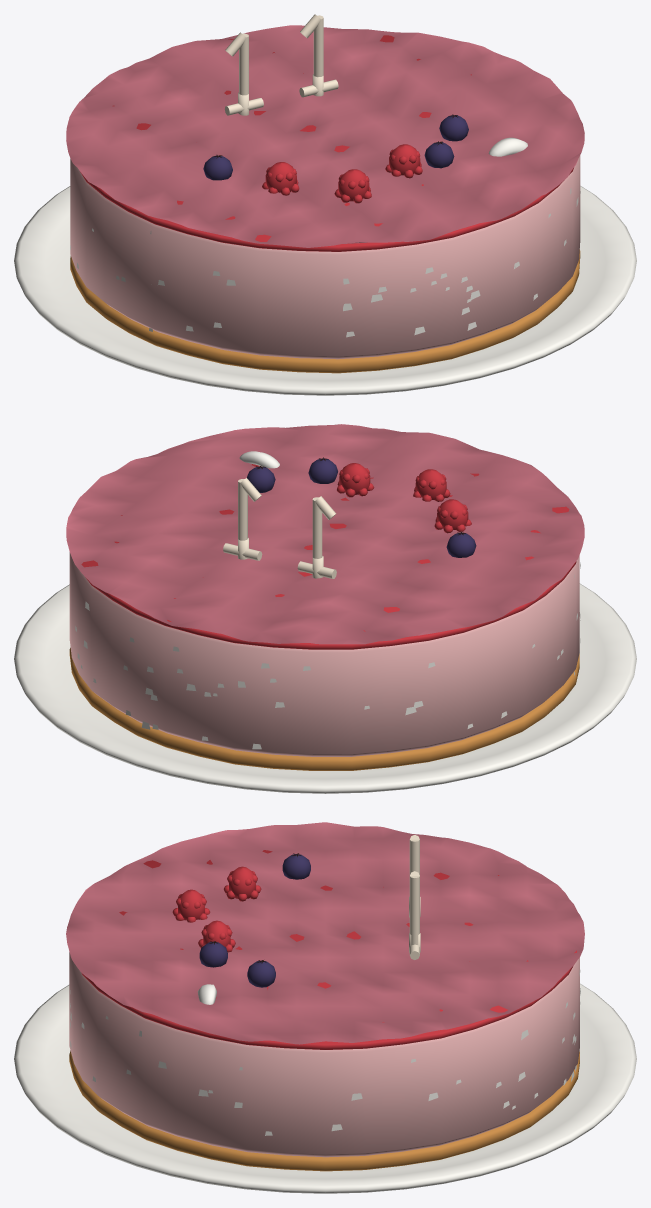
The model's file is cake-11.b8dd085b2adb-CWJvQ80R.glb.
3 views of the same model, one above another, from view 1: azimuth 30°, elevation 25°; view 2: azimuth 150°, elevation 25°; view 3: azimuth 270°, elevation 25° (orthographic).
Parts seen in each view (by area): view 1: Irregular_hand_spread_food_surface, Soft_mousse_body, Clean_porcelain_plate, Thin_sponge_foundation, PART_FOOD_ROOT_MAT_strawberry, PART_FOOD_ROOT_MAT_number_wax, PART_FOOD_ROOT_MAT_berry, PART_FOOD_ROOT_MAT_cream; view 2: Irregular_hand_spread_food_surface, Soft_mousse_body, Clean_porcelain_plate, Thin_sponge_foundation, PART_FOOD_ROOT_MAT_strawberry, PART_FOOD_ROOT_MAT_number_wax, PART_FOOD_ROOT_MAT_berry, PART_FOOD_ROOT_MAT_cream; view 3: Irregular_hand_spread_food_surface, Soft_mousse_body, Clean_porcelain_plate, Thin_sponge_foundation, PART_FOOD_ROOT_MAT_strawberry, PART_FOOD_ROOT_MAT_berry, PART_FOOD_ROOT_MAT_number_wax, PART_FOOD_ROOT_MAT_cream.
Part boxes in pixels (<box>): Irregular_hand_spread_food_surface: <box>66,25,584,247</box>; Soft_mousse_body: <box>70,155,580,359</box>; Clean_porcelain_plate: <box>14,186,636,395</box>; Thin_sponge_foundation: <box>70,249,580,373</box>; PART_FOOD_ROOT_MAT_strawberry: <box>80,35,573,251</box>; PART_FOOD_ROOT_MAT_number_wax: <box>224,14,338,115</box>; PART_FOOD_ROOT_MAT_berry: <box>203,115,468,180</box>; PART_FOOD_ROOT_MAT_cream: <box>70,137,580,337</box>; Irregular_hand_spread_food_surface: <box>66,424,584,644</box>; Soft_mousse_body: <box>69,552,579,756</box>; Clean_porcelain_plate: <box>14,583,636,793</box>; Thin_sponge_foundation: <box>69,647,579,770</box>; PART_FOOD_ROOT_MAT_strawberry: <box>81,463,576,649</box>; PART_FOOD_ROOT_MAT_number_wax: <box>223,478,336,578</box>; PART_FOOD_ROOT_MAT_berry: <box>247,458,476,557</box>; PART_FOOD_ROOT_MAT_cream: <box>75,451,580,749</box>; Irregular_hand_spread_food_surface: <box>66,822,584,1044</box>; Soft_mousse_body: <box>69,952,579,1157</box>; Clean_porcelain_plate: <box>14,983,636,1193</box>; Thin_sponge_foundation: <box>69,1050,579,1171</box>; PART_FOOD_ROOT_MAT_strawberry: <box>81,850,576,1049</box>; PART_FOOD_ROOT_MAT_berry: <box>199,854,310,987</box>; PART_FOOD_ROOT_MAT_number_wax: <box>409,835,420,959</box>; PART_FOOD_ROOT_MAT_cream: <box>70,970,580,1135</box>.
Size of the model in its own units: 0.1952 by 0.0758 by 0.1952.
